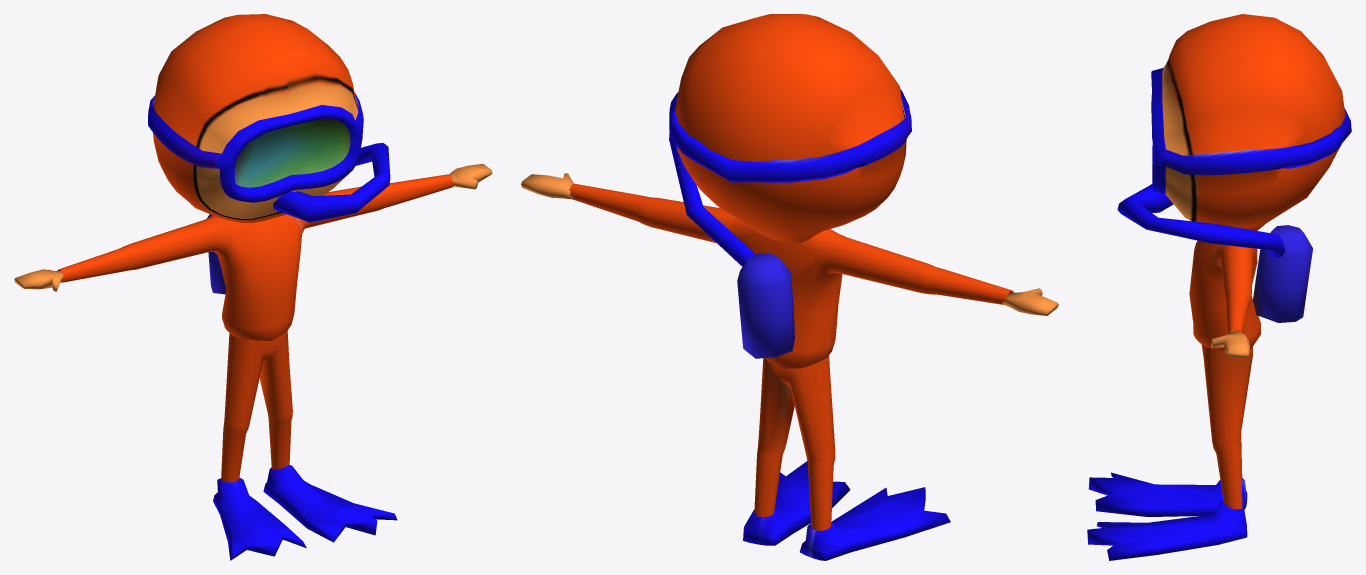
File: player_diver.fbx
3 views of the same model, side by side, from view 1: azimuth 30°, elevation 25°; view 2: azimuth 150°, elevation 25°; view 3: azimuth 270°, elevation 25° (orthographic). The views are drawn at different scales.
Visible parts, largest first — view 1: diver; view 2: diver; view 3: diver.
Boxes of the visible parts, <box> form: diver: <box>14,14,492,560</box>; diver: <box>521,14,1058,560</box>; diver: <box>1087,14,1351,560</box>.
Size of the model in its own units: 79 by 76.53 by 36.69.
